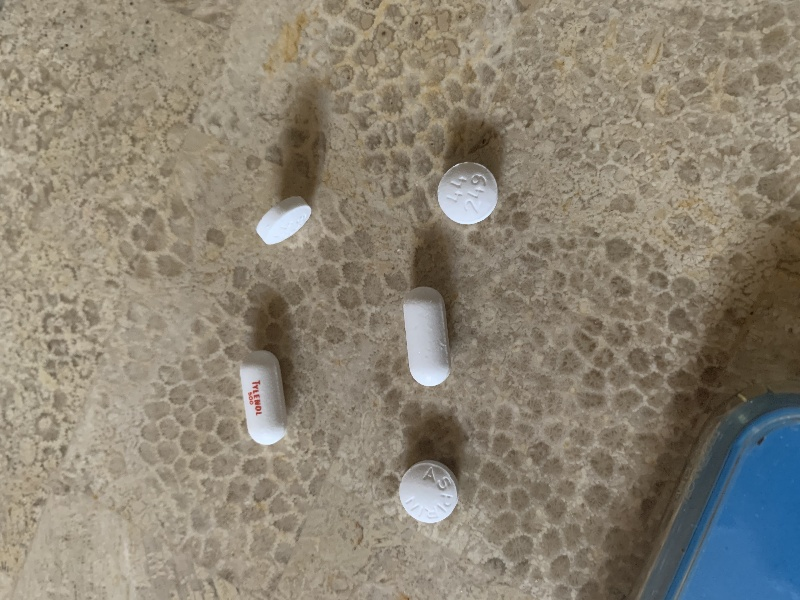Aspirin: (434, 158, 503, 228), (398, 458, 464, 527)
Tylenol: (395, 285, 464, 391), (238, 349, 292, 448)
